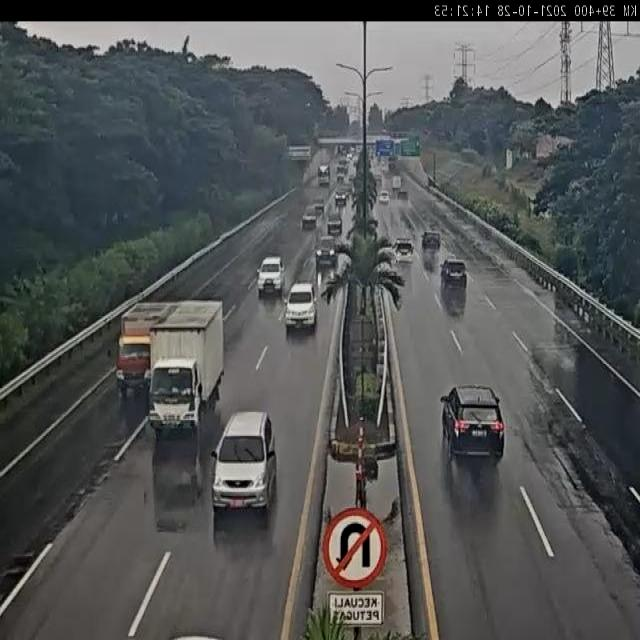Car: (210, 409, 278, 524), (433, 376, 507, 460), (284, 281, 318, 331), (256, 255, 285, 296), (314, 237, 338, 269), (440, 257, 467, 285), (393, 236, 415, 264), (422, 230, 442, 250)
Truck: (142, 295, 224, 448), (109, 300, 173, 397)
